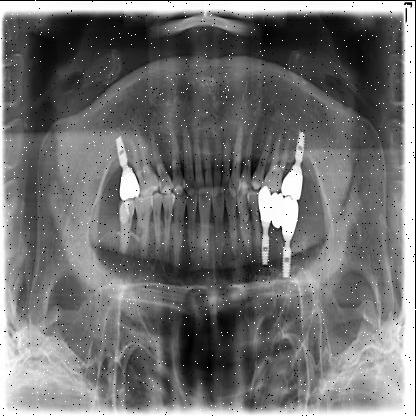Bicon: (114, 132, 132, 168), (280, 242, 295, 283), (294, 127, 310, 164), (259, 232, 273, 270)
